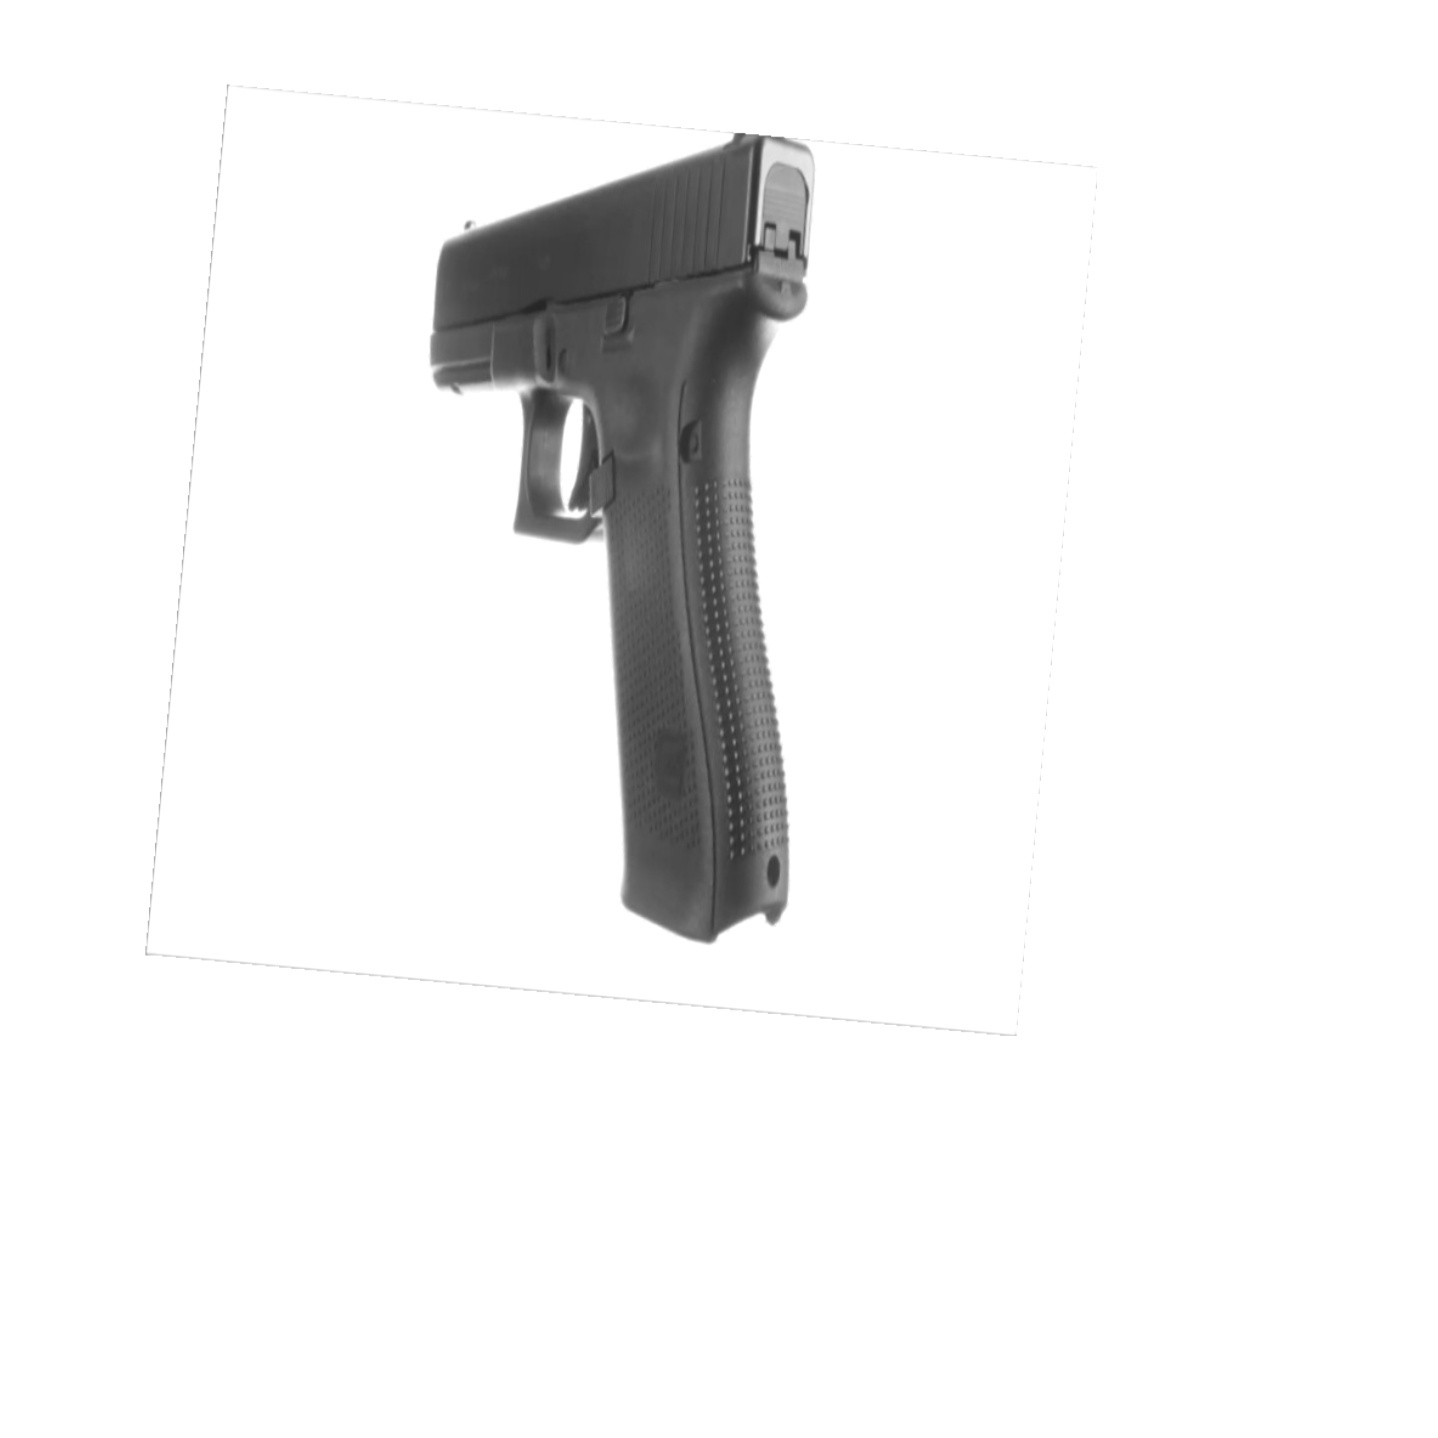gun: (406, 121, 823, 945)
